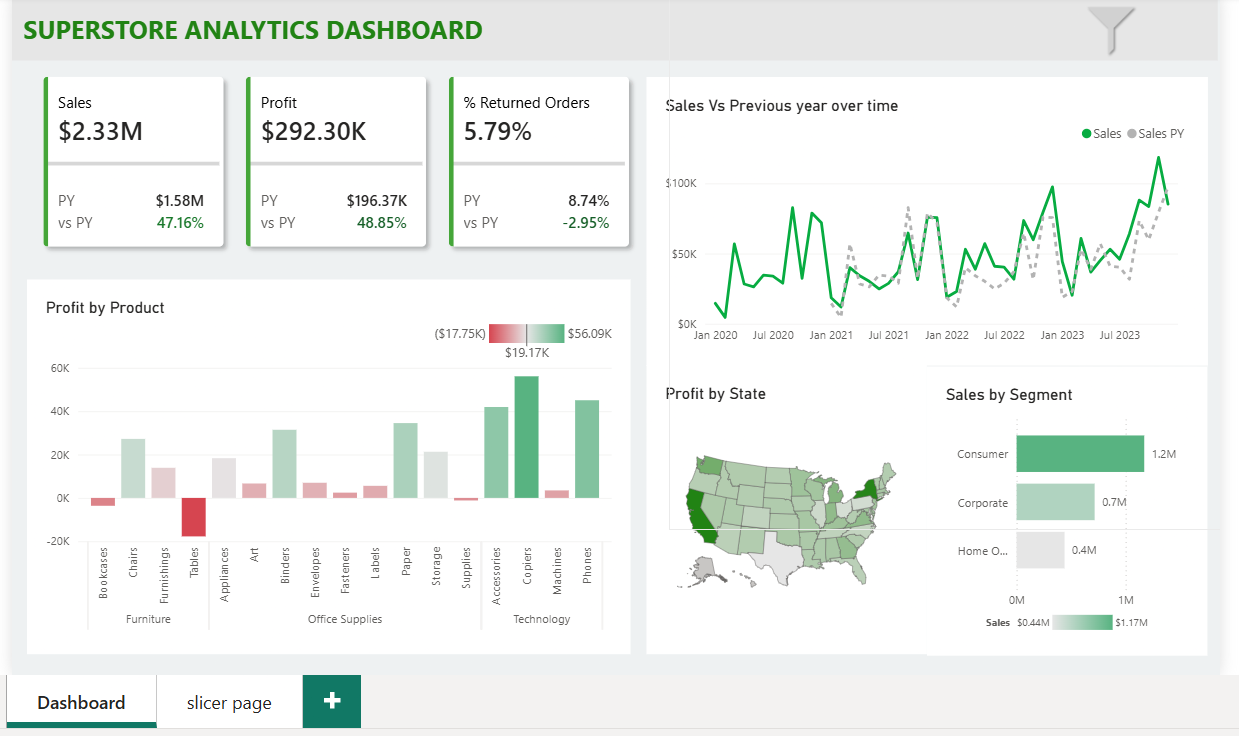

Layout of this report page (visuals, bound fields, positions):
{"tool":"powerbi","page":{"name":"Dashboard","canvas":[1280,720],"ordinal":0},"visuals":[{"type":"image","title":"Filter","box":[1114.8,0,103.1,76.7],"z":0,"group":"g1"},{"type":"cardVisual","fields":{"Data":["Key measures.Sales","Key measures.Profit","Key measures.% Returned Orders"]},"box":[15.9,68.4,656.9,214.7],"z":0},{"type":"shape","box":[0,0,1278.9,68.4],"z":1000},{"type":"lineChart","title":"Sales Vs Previous year over time","fields":{"Y":["Key measures.Sales","Key measures.Sales PY"],"Category":["Date.start of month"]},"box":[673.2,86.1,595.1,306.3],"z":2000},{"type":"columnChart","title":"Profit by Product","fields":{"Category":["Orders.Category","Orders.Sub-Category"],"Y":["Sum(Orders.Profit)"]},"box":[16,299.9,639.7,397.2],"z":3000},{"type":"shapeMap","title":"Profit by State","fields":{"Value":["Key measures.Profit"],"Category":["Orders.State/Province"]},"box":[672.8,391.3,297.4,307],"z":4000},{"type":"clusteredBarChart","title":"Sales by Segment","fields":{"Category":["Orders.Segment"],"Y":["Sum(Orders.Sales)"]},"box":[970.3,392.9,297.4,307],"z":5000},{"type":"group","id":"g1","title":"Slicer Panel","box":[696.9,0,584.5,566],"z":6000}]}

Visuals, with their boxes on the page's 1280x720 design canvas (x1, y1, x2, y2). These are canvas units, not pixel positions in the 1239x736 screenshot, which may show the page scaled, cropped or inside an application window:
"Filter" image: <box>1115,0,1218,77</box>
cardVisual - Key measures.Sales x Key measures.Profit: <box>16,68,673,283</box>
shape: <box>0,0,1279,68</box>
"Sales Vs Previous year over time" lineChart: <box>673,86,1268,392</box>
"Profit by Product" columnChart: <box>16,300,656,697</box>
"Profit by State" shapeMap: <box>673,391,970,698</box>
"Sales by Segment" clusteredBarChart: <box>970,393,1268,700</box>
"Slicer Panel" group: <box>697,0,1281,566</box>
